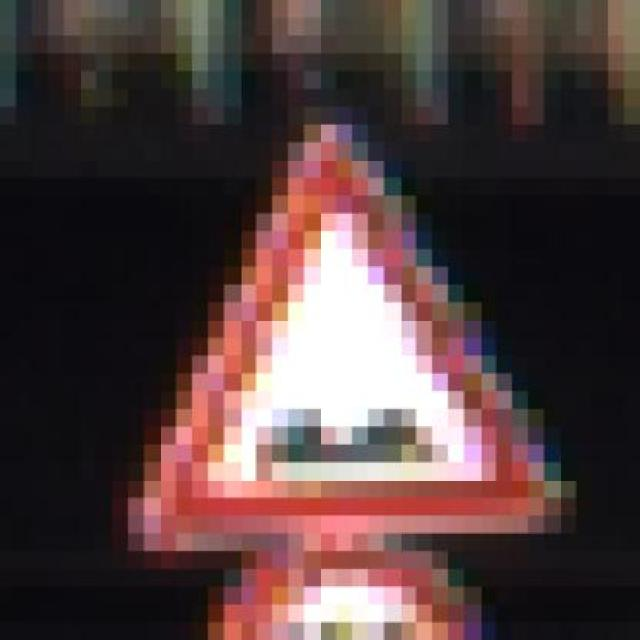Uneven Road: (129, 71, 576, 569)
